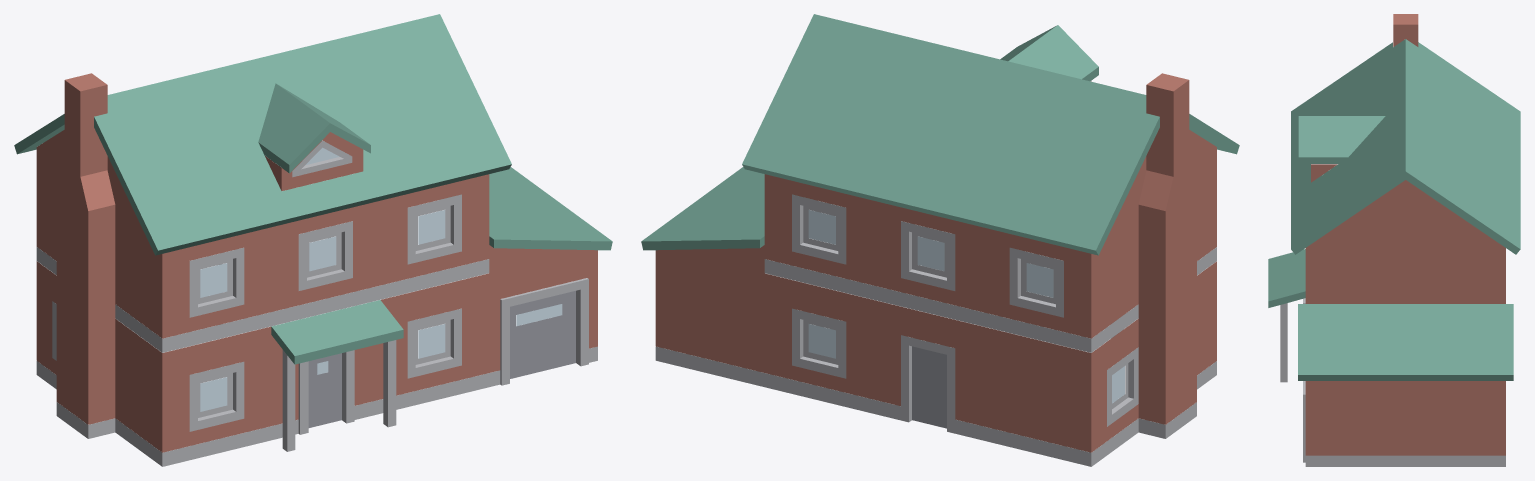
File: house-5.glb
3 renders of one model, left to right at view 1: azimuth 30°, elevation 25°; view 2: azimuth 150°, elevation 25°; view 3: azimuth 270°, elevation 25°, orthographic. The views are drawn at different scales.
Visible parts, largest first — view 1: house_type08; view 2: house_type08; view 3: house_type08.
Part boxes in pixels (<box>): house_type08: <box>14,14,612,466</box>; house_type08: <box>641,14,1239,466</box>; house_type08: <box>1268,14,1520,466</box>.
Size of the model in its own units: 1.74 by 1.2 by 1.01.
1 material, 1 textured.
